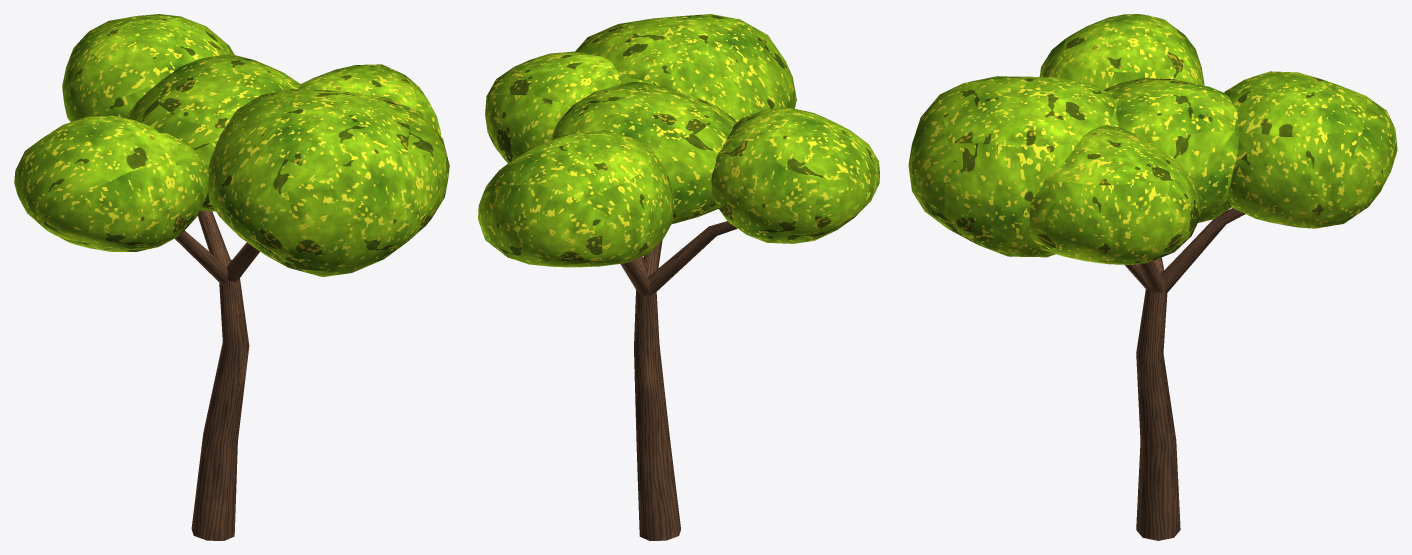
The model's file is ArbolSeco.obj.
3 views of the same model, side by side, from view 1: azimuth 30°, elevation 25°; view 2: azimuth 150°, elevation 25°; view 3: azimuth 270°, elevation 25° (orthographic). The views are drawn at different scales.
Parts seen in each view (by area): view 1: ArbolSeco; view 2: ArbolSeco; view 3: ArbolSeco.
Boxes of the visible parts, x1,y1,x2,y2 form: ArbolSeco: [14, 14, 449, 540]; ArbolSeco: [478, 14, 879, 540]; ArbolSeco: [908, 14, 1397, 540].
Bounding box in the file's own units: 5.23 × 6 × 5.73.
2 materials, 2 textured.
